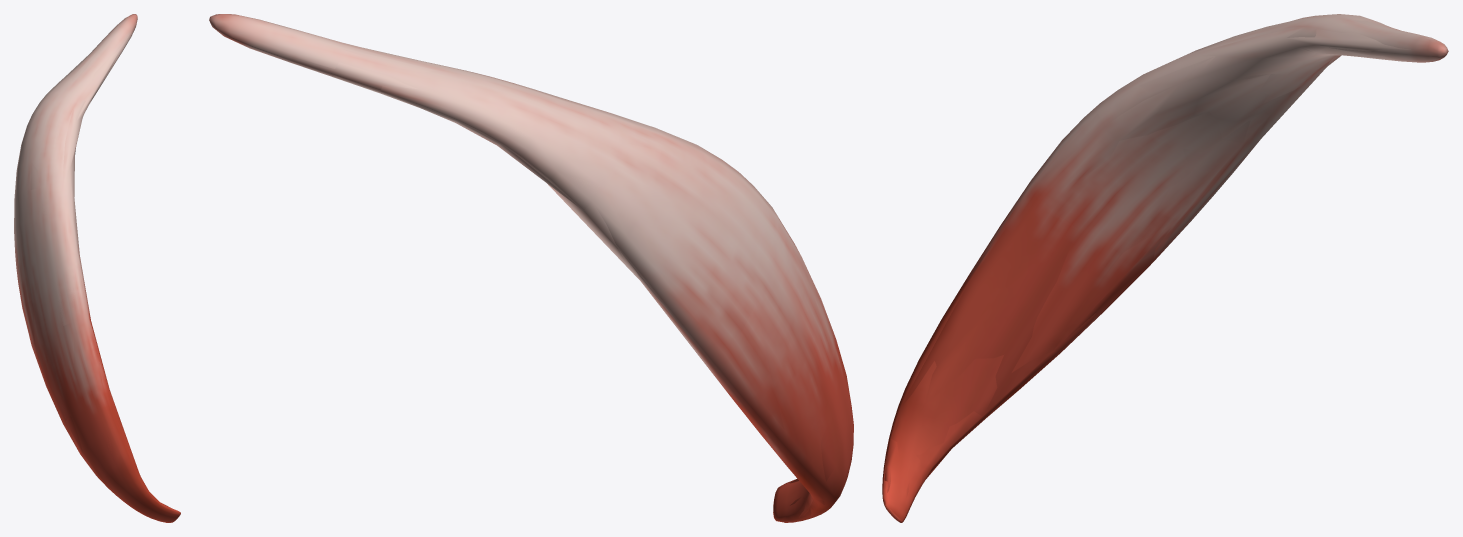
File: R Deltoideus.fbx
The picture shows the model from 3 angles, left to right: view 1: azimuth 30°, elevation 25°; view 2: azimuth 150°, elevation 25°; view 3: azimuth 270°, elevation 25°; orthographic projection. The views are drawn at different scales.
Visible parts, largest first — view 1: R Deltoideus, R Deltoideus low; view 2: R Deltoideus, R Deltoideus low; view 3: R Deltoideus low, R Deltoideus.
Part boxes in pixels (x1,y1,x2,y2): R Deltoideus: (14, 14, 180, 522); R Deltoideus low: (18, 34, 180, 512); R Deltoideus: (209, 14, 853, 522); R Deltoideus low: (209, 20, 850, 518); R Deltoideus low: (883, 18, 1446, 505); R Deltoideus: (882, 14, 1448, 522).
Bounding box in the file's own units: 11.92 × 20.43 × 18.11.
